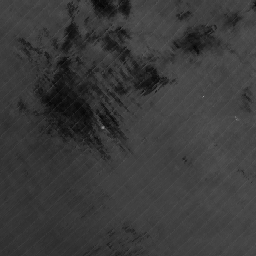Target: (100, 124, 107, 131)
